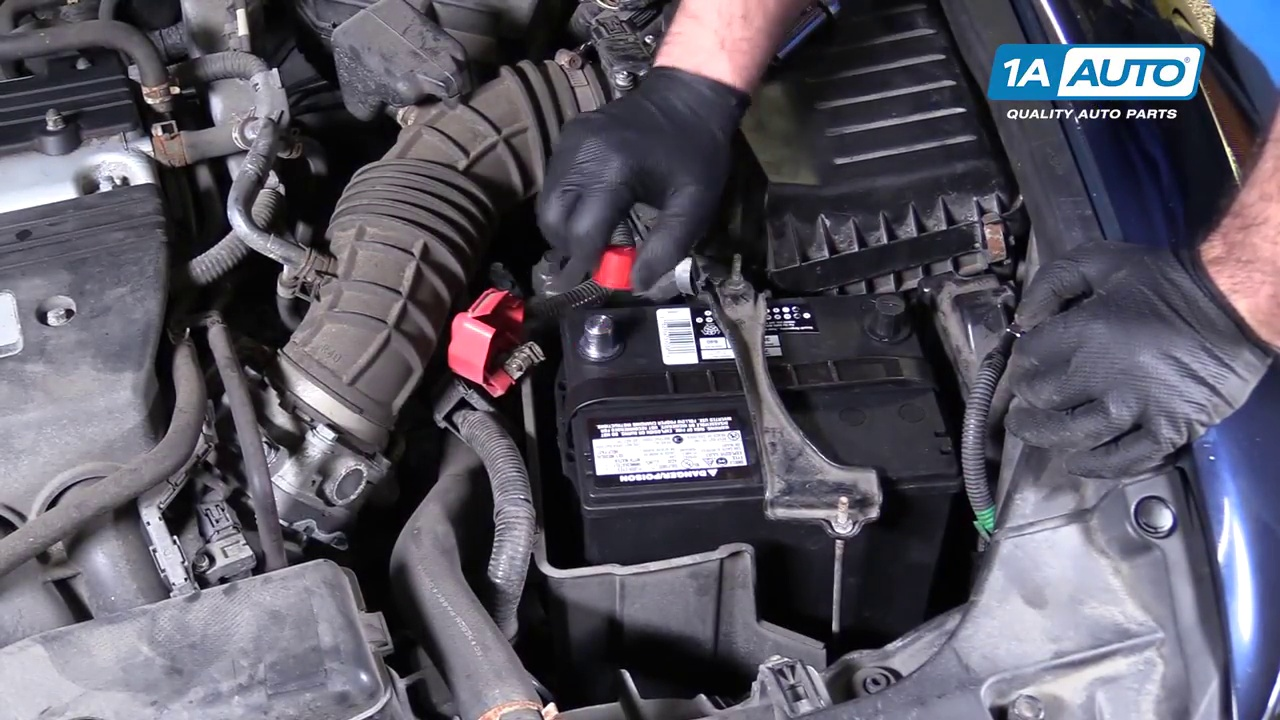battery: (555, 270, 959, 493)
pos_disconnected: (441, 244, 639, 395)
pos_touched: (453, 166, 680, 373)
